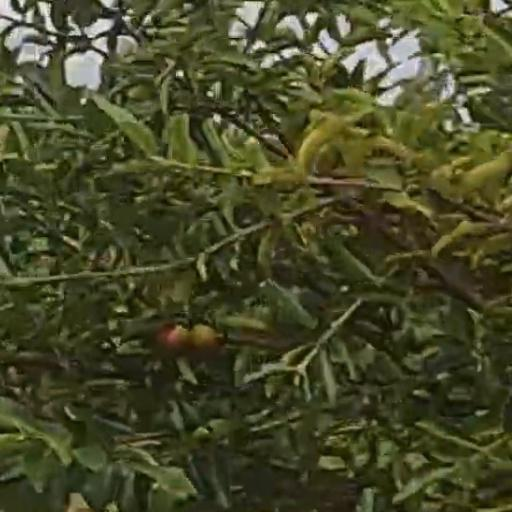acerola: (158, 325, 188, 349), (191, 323, 213, 344)
